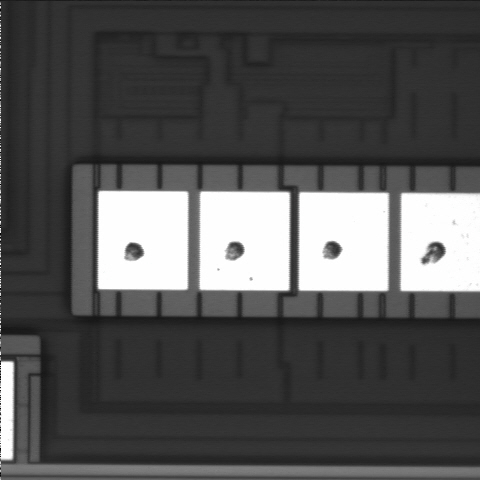pad: (98, 191, 188, 290), (299, 192, 389, 291), (200, 192, 290, 290)
